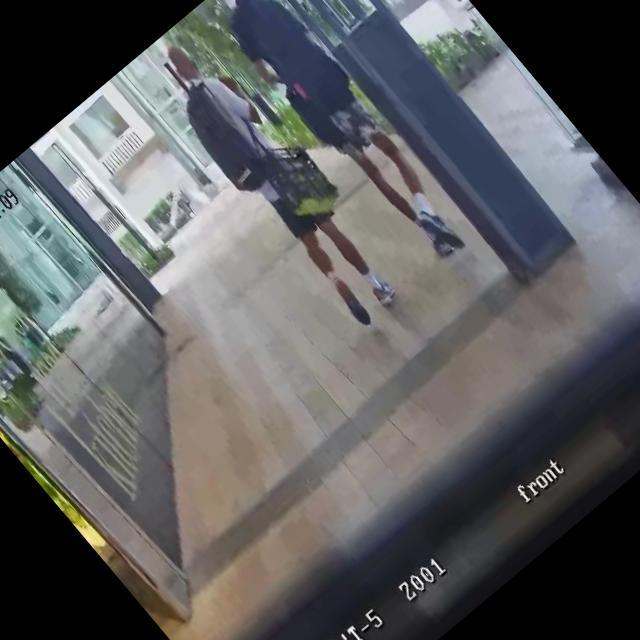person: (138, 28, 411, 336), (199, 0, 481, 275)
